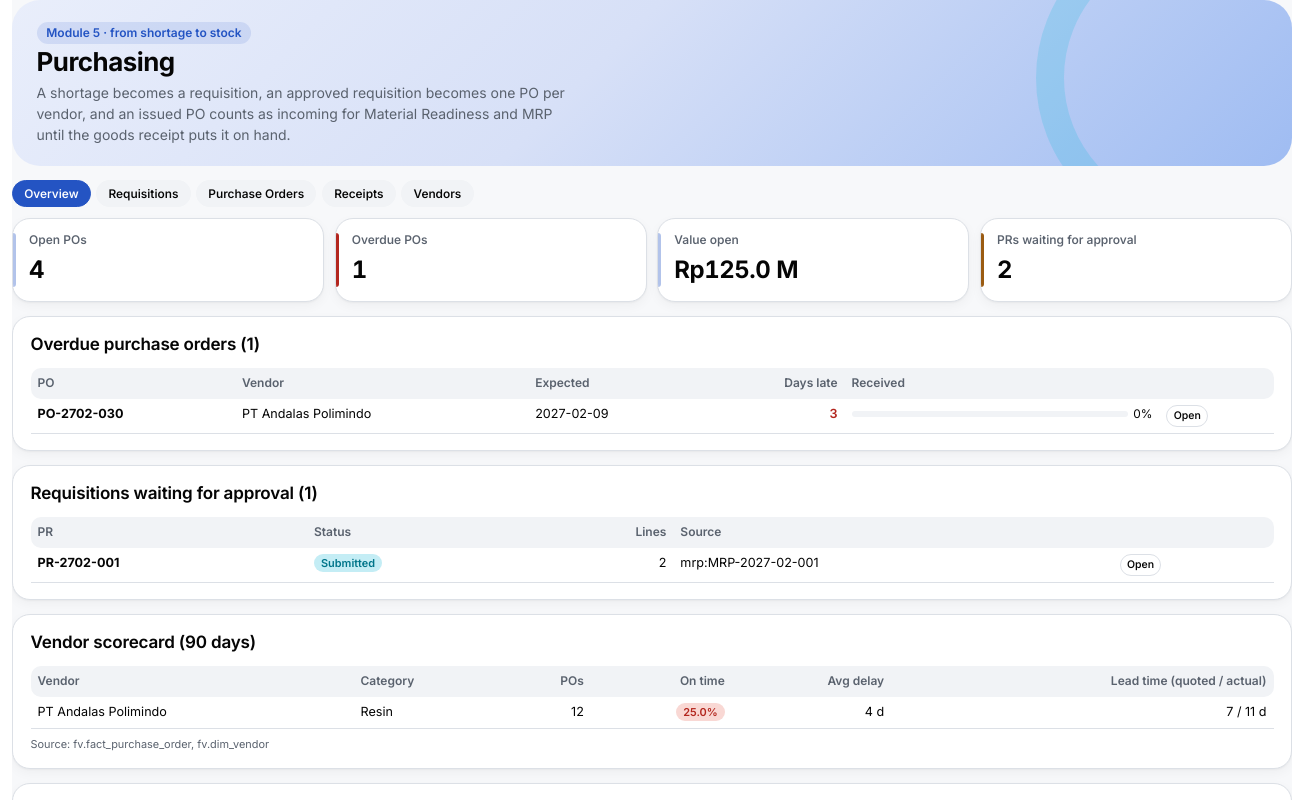
Test: overview: keeps the scorecard and the urgent resin PO, adds KPIs, overdue POs and pending PRs
Check: the heading "Vendor scorecard (90 days)" is shown, box top-left (30, 630), bottom-right (256, 656)
Check: the text "25.0%" is shown, box top-left (676, 703), bottom-right (725, 721)
Step 1. Click the button with aria-label "Open PO-2702-030" → (1187,416), box top-left (1166, 405), bottom-right (1208, 427)
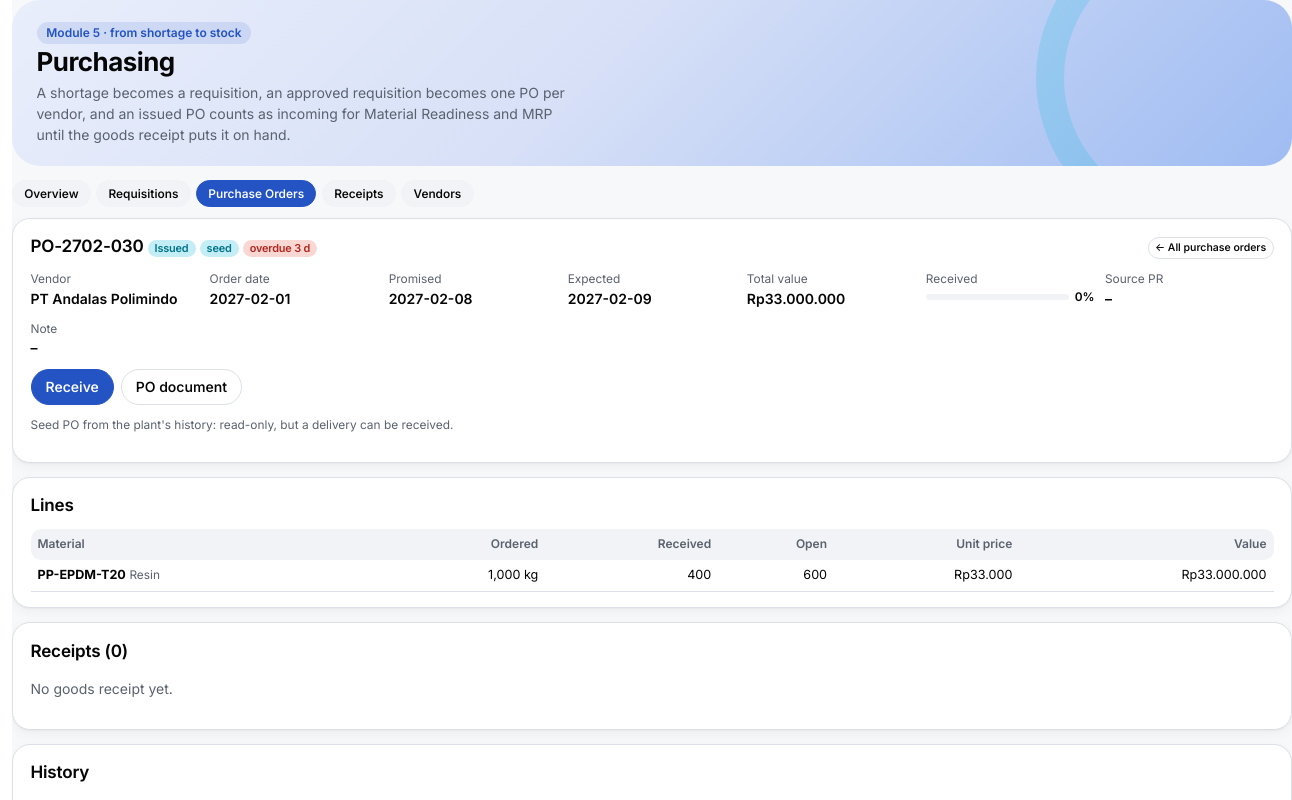
Check: the text "Seed PO from the plant's history" is shown, box top-left (30, 417), bottom-right (453, 432)
